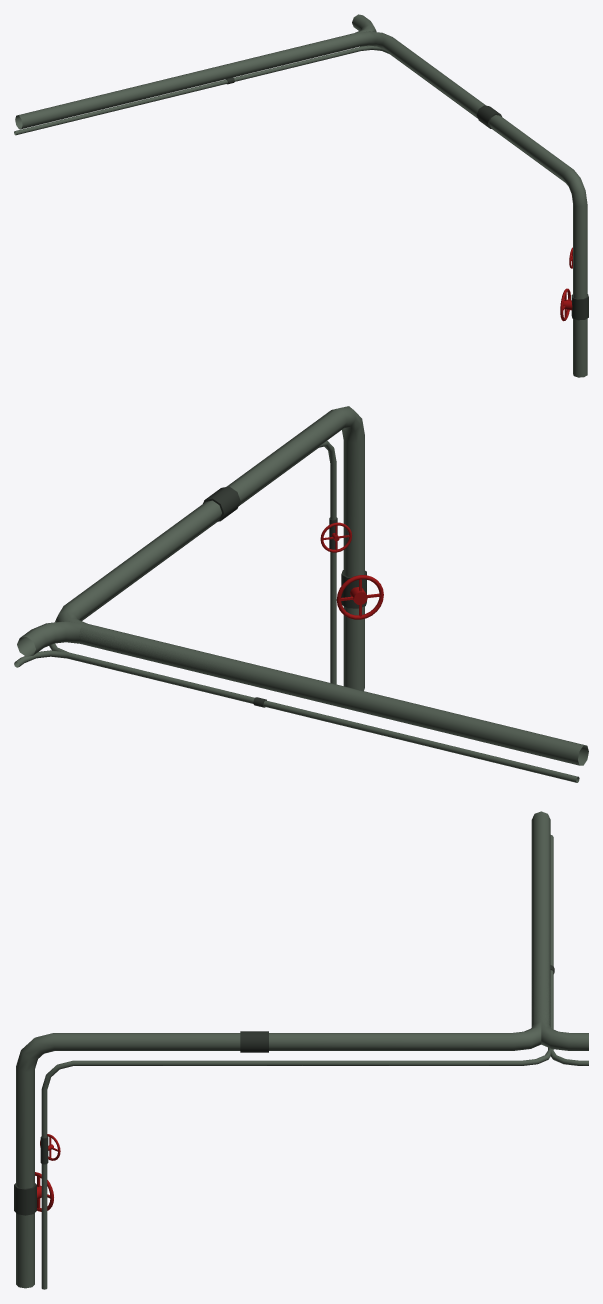
File: pipes.fbx
The picture shows the model from 3 angles, top to bottom: view 1: azimuth 30°, elevation 25°; view 2: azimuth 150°, elevation 25°; view 3: azimuth 270°, elevation 25°; orthographic projection. The views are drawn at different scales.
Parts seen in each view (by area): view 1: pipe_B_ground, pipe_B, pipe_B_turn_R, pipe_B_turn_L, pipe_A, pipe_A_turn_L, valve_B, pipe_A_turn_R; view 2: pipe_B_ground, pipe_B, pipe_B_turn_R, pipe_B_turn_L, pipe_A, pipe_A_turn_L, pipe_A_ground, valve_B, pipe_A_turn_R, pipe_B_junction, valve_A; view 3: pipe_B_ground, pipe_B_turn_R, pipe_A_ground, pipe_B_turn_L, pipe_B, pipe_A_turn_R, valve_B, pipe_B_junction.
Part boxes in pixels (bbox=[...]): pipe_B_ground: bbox=[464, 97, 587, 377]; pipe_B: bbox=[15, 68, 217, 129]; pipe_B_turn_R: bbox=[215, 31, 474, 108]; pipe_B_turn_L: bbox=[212, 14, 376, 81]; pipe_A: bbox=[14, 83, 211, 135]; pipe_A_turn_L: bbox=[210, 45, 369, 87]; valve_B: bbox=[560, 288, 588, 321]; pipe_A_turn_R: bbox=[211, 45, 475, 116]; pipe_B_ground: bbox=[187, 406, 364, 690]; pipe_B: bbox=[289, 675, 588, 765]; pipe_B_turn_R: bbox=[55, 515, 296, 694]; pipe_B_turn_L: bbox=[17, 621, 297, 695]; pipe_A: bbox=[287, 706, 579, 782]; pipe_A_turn_L: bbox=[14, 650, 289, 712]; pipe_A_ground: bbox=[186, 440, 336, 684]; valve_B: bbox=[336, 570, 383, 619]; pipe_A_turn_R: bbox=[49, 544, 286, 711]; pipe_B_junction: bbox=[203, 486, 240, 521]; valve_A: bbox=[320, 517, 351, 552]; pipe_B_ground: bbox=[16, 1033, 302, 1288]; pipe_B_turn_R: bbox=[302, 935, 550, 1050]; pipe_A_ground: bbox=[41, 1060, 302, 1289]; pipe_B_turn_L: bbox=[531, 932, 588, 1050]; pipe_B: bbox=[531, 811, 550, 940]; pipe_A_turn_R: bbox=[302, 1005, 553, 1065]; valve_B: bbox=[14, 1172, 53, 1215]; pipe_B_junction: bbox=[240, 1031, 268, 1052].
Size of the model in its own units: 564 by 292 by 602.
